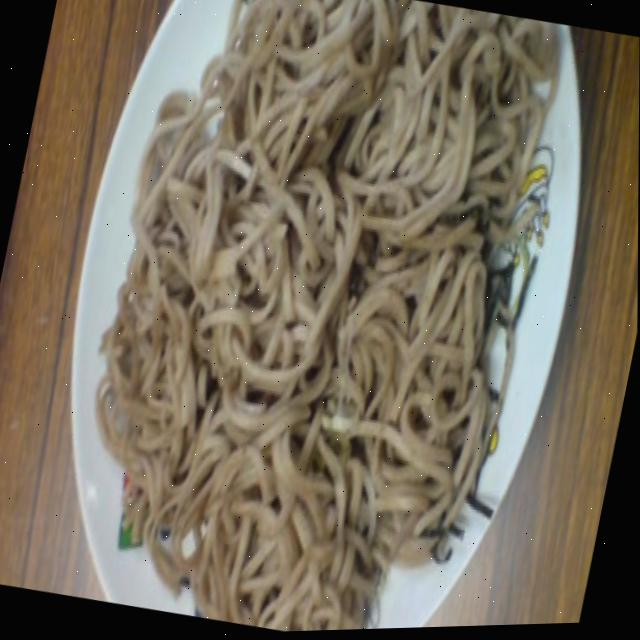面条主食: (49, 0, 593, 639)
